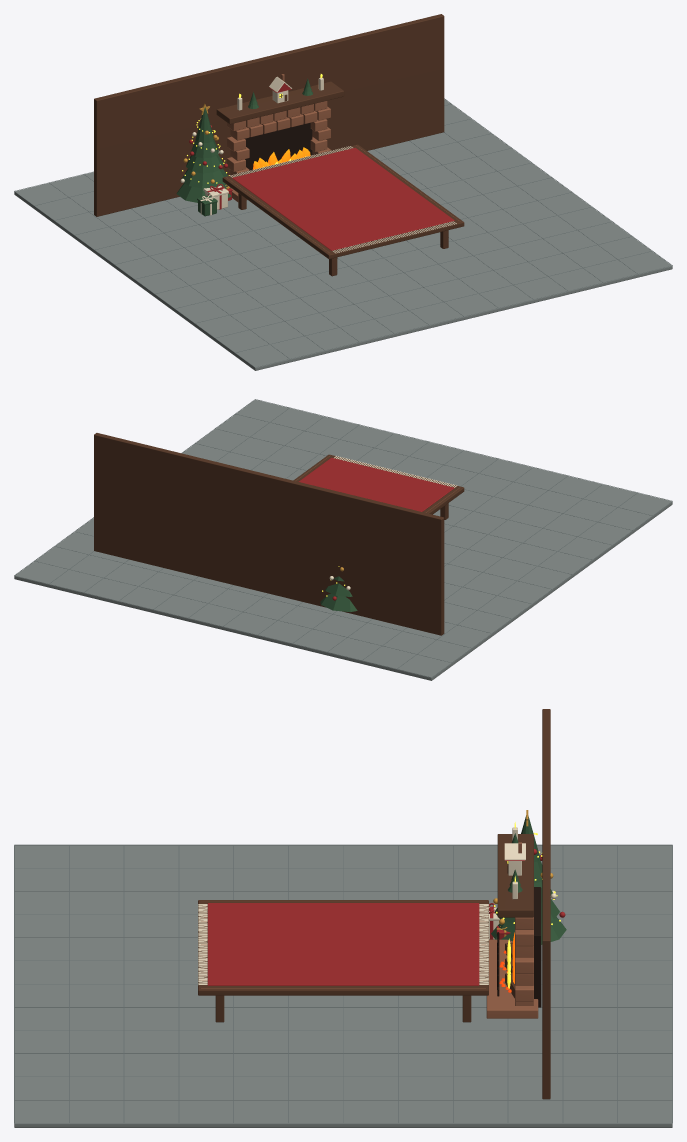
File: christmas-room.glb
3 renders of one model, top to bottom at view 1: azimuth 30°, elevation 25°; view 2: azimuth 150°, elevation 25°; view 3: azimuth 270°, elevation 25°, orthographic. The views are drawn at different scales.
Visible parts, largest first — view 1: Floor, Back wall, Red woven blanket, Walnut tabletop, Mantel, Firebox, Christmas tree.001; view 2: Floor, Back wall, Red woven blanket, Walnut tabletop, Christmas tree; view 3: Floor, Red woven blanket, Walnut tabletop, Back wall, Mantel, Hearth, Floor joint X, Firebox, Floor joint X.012, Floor joint X.009, Floor joint X.011, Floor joint X.008 (+1 smaller).
Boxes of the visible parts, x1,y1,x2,y2 form: Floor: (14,99,672,370); Back wall: (94,14,444,216); Red woven blanket: (232,147,454,250); Walnut tabletop: (222,144,464,259); Mantel: (216,81,344,124); Firebox: (245,123,312,170); Christmas tree.001: (182,168,227,188); Floor: (14,399,672,680); Back wall: (94,433,444,635); Red woven blanket: (298,457,454,511); Walnut tabletop: (293,454,464,514); Christmas tree: (320,594,357,611); Floor: (14,845,672,1127); Red woven blanket: (207,903,479,985); Walnut tabletop: (198,900,488,995); Back wall: (542,709,550,1099); Mantel: (497,834,533,917); Hearth: (486,939,538,1018); Floor joint X: (14,844,672,845); Firebox: (534,887,541,1007); Floor joint X.012: (14,1123,672,1123); Floor joint X.009: (14,1053,672,1053); Floor joint X.011: (15,1100,671,1100); Floor joint X.008: (14,1030,672,1030).
Bounding box in the file's own units: 12.01 × 3.31 × 12.01.
